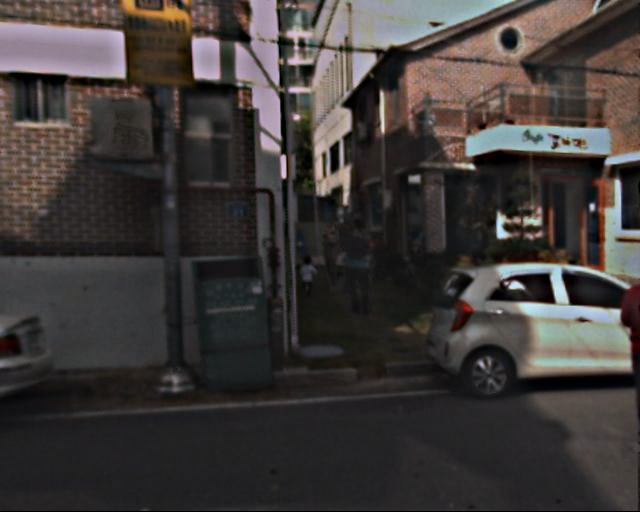person: (339, 218, 379, 316), (320, 225, 348, 293), (299, 256, 315, 295)
